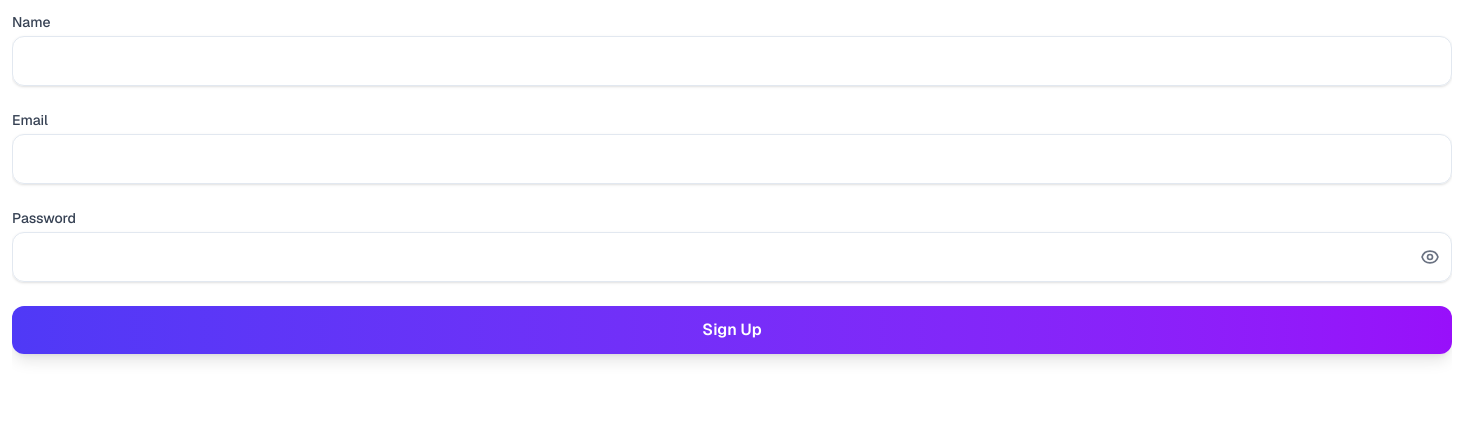
Test: Authentication Flows › displays an error if signup password is too short
In the field labelled "Name": point(732, 61) [12, 36, 1452, 86], type "Short Pass"
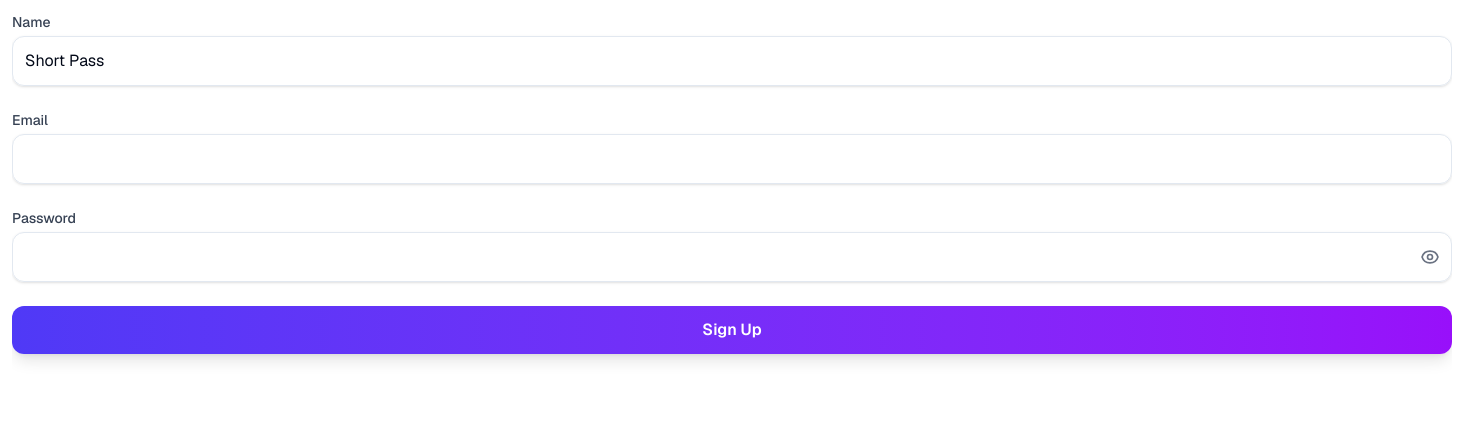
In the field labelled "Email": point(732, 159) [12, 134, 1452, 184], type "short@example.com"
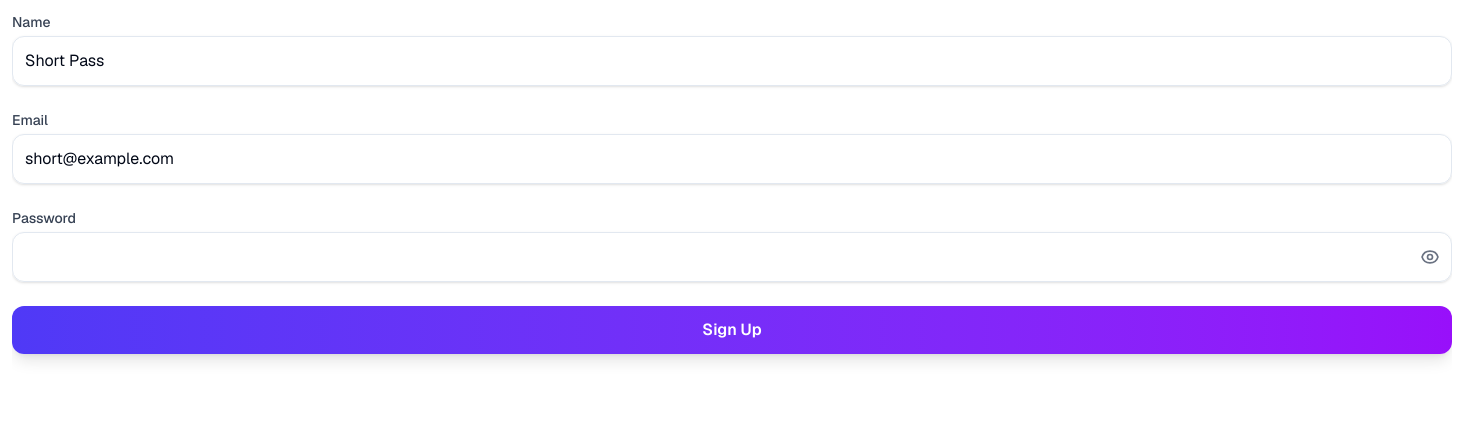
In the password field labelled "Password": point(732, 257) [12, 232, 1452, 282], type "short"
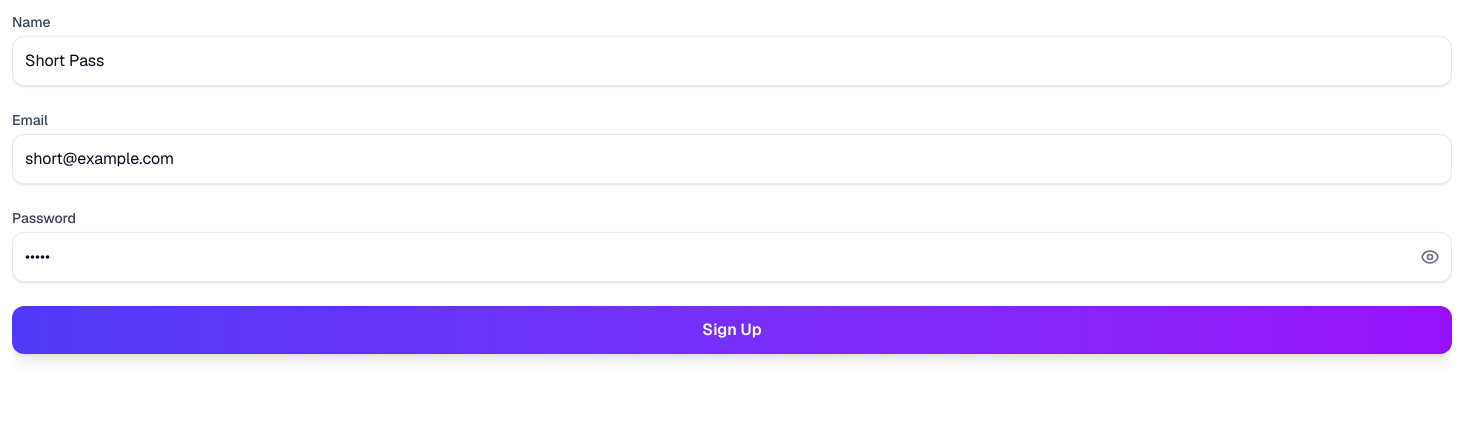
Click the button "Sign Up": point(732, 330) [12, 306, 1452, 354]
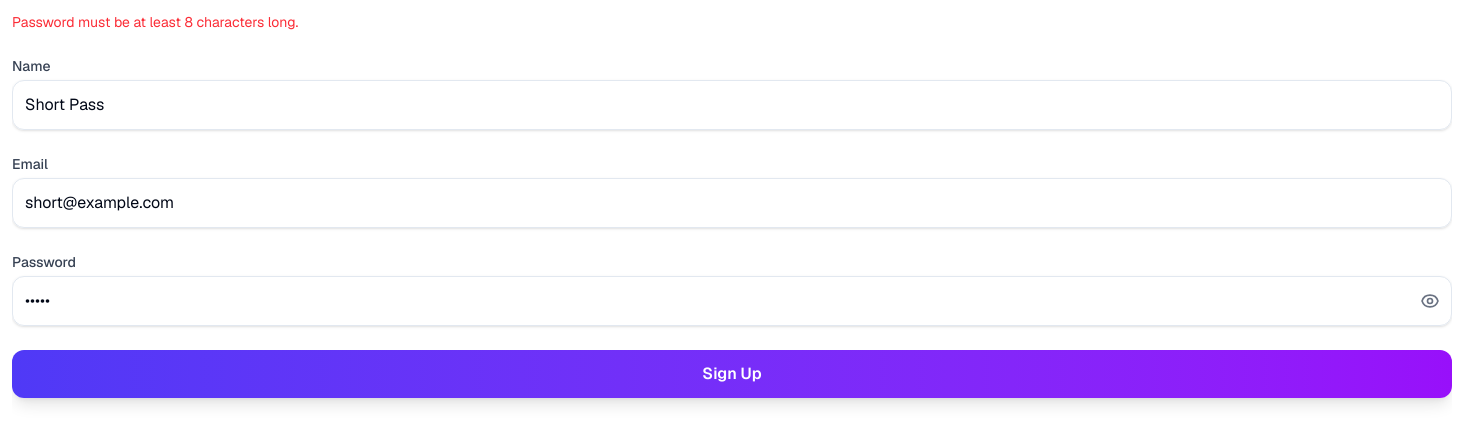
Result: the text "Password must be at least 8 characters long." is shown at [12, 13, 298, 31]
